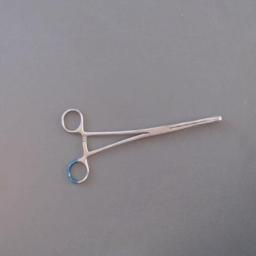Sponge Forceps: (58, 104, 228, 186)
